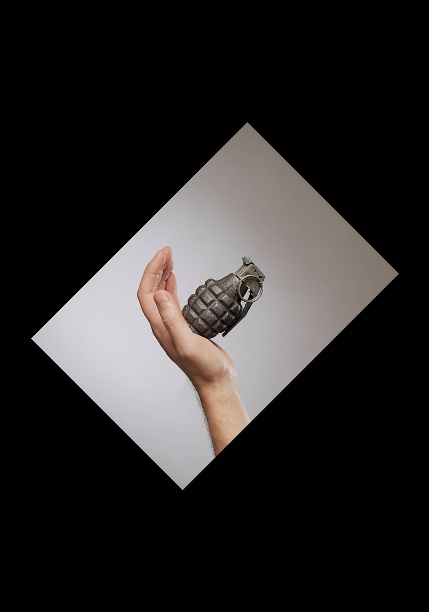e1: (183, 254, 267, 338)
